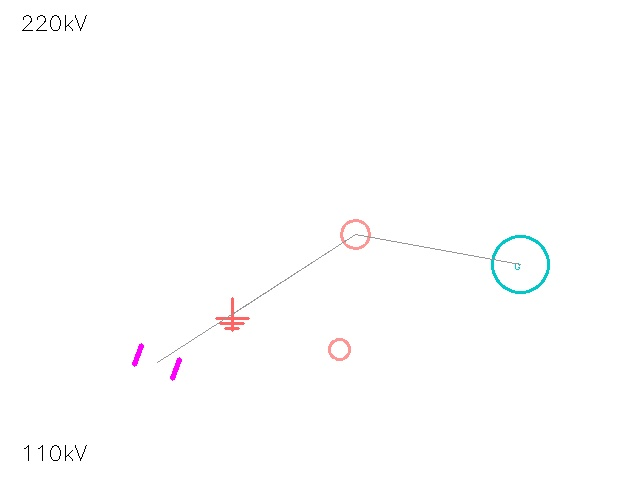capacitor: (123, 328, 191, 396)
disconnect_switch: (327, 206, 383, 262)
feeder_terminal: (319, 329, 359, 369)
generator: (492, 236, 548, 292)
ground: (216, 298, 248, 330)
